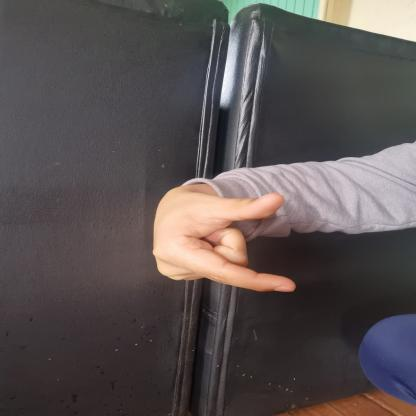G: (135, 161, 315, 303)
